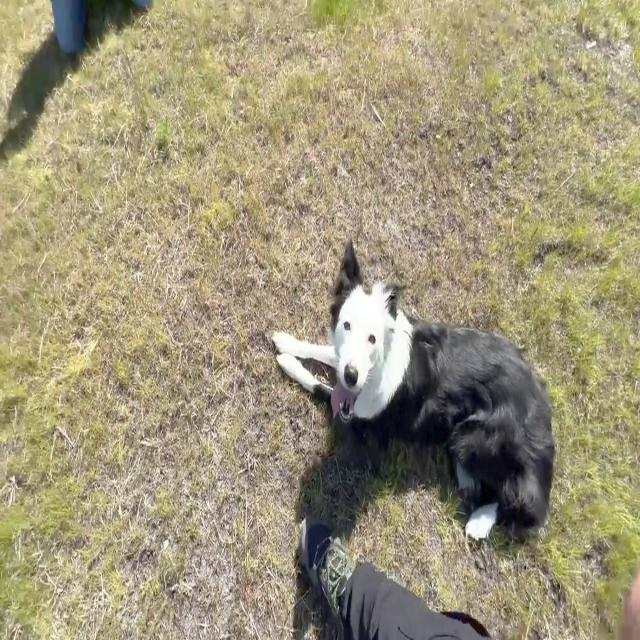Dog: (273, 238, 556, 544)
